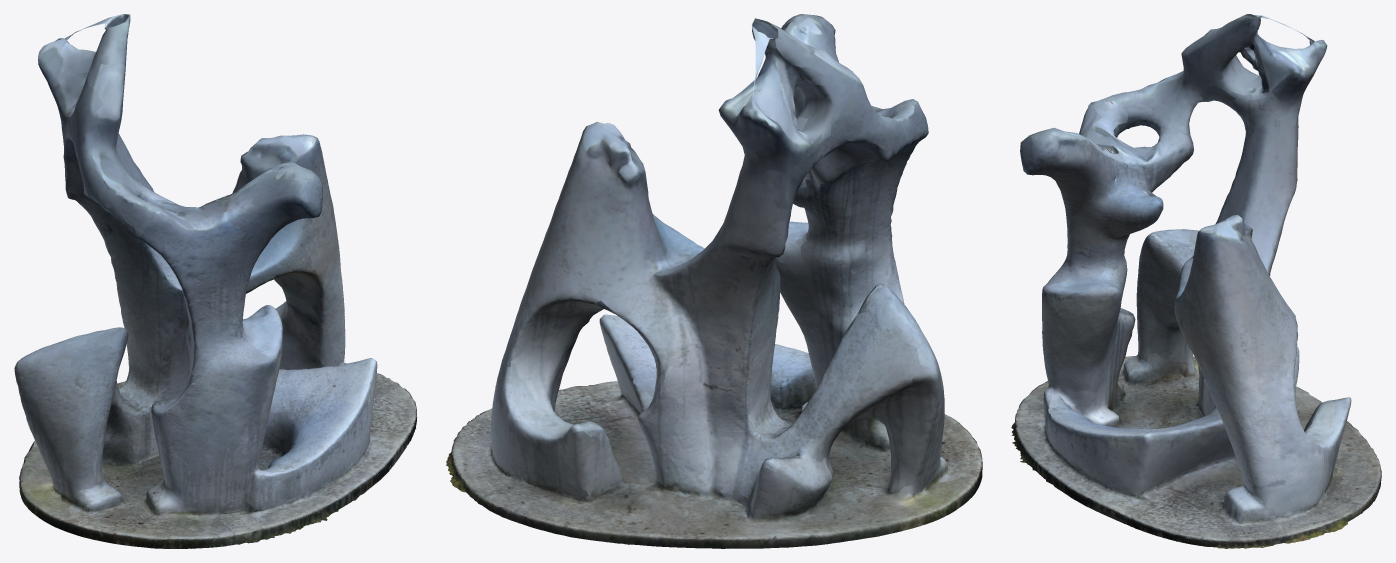
File: sonatorrek.obj
3 views of the same model, side by side, from view 1: azimuth 30°, elevation 25°; view 2: azimuth 150°, elevation 25°; view 3: azimuth 270°, elevation 25° (orthographic). The views are drawn at different scales.
Visible parts, largest first — view 1: Object; view 2: Object; view 3: Object.
Boxes of the visible parts, x1,y1,x2,y2 form: Object: (14, 14, 417, 548); Object: (446, 14, 982, 548); Object: (1011, 14, 1381, 548).
Bounding box in the file's own units: 3.72 × 3.83 × 3.13.
